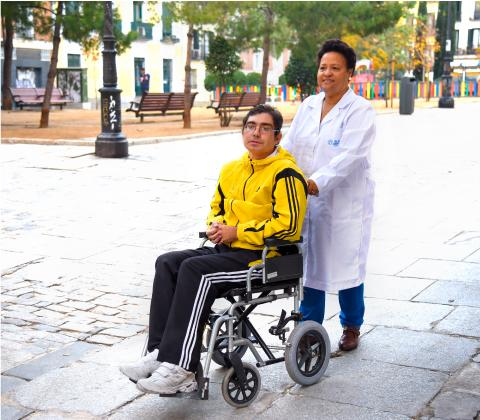push_wheelchair: (251, 38, 378, 351)
wheelchair: (118, 104, 331, 408)
